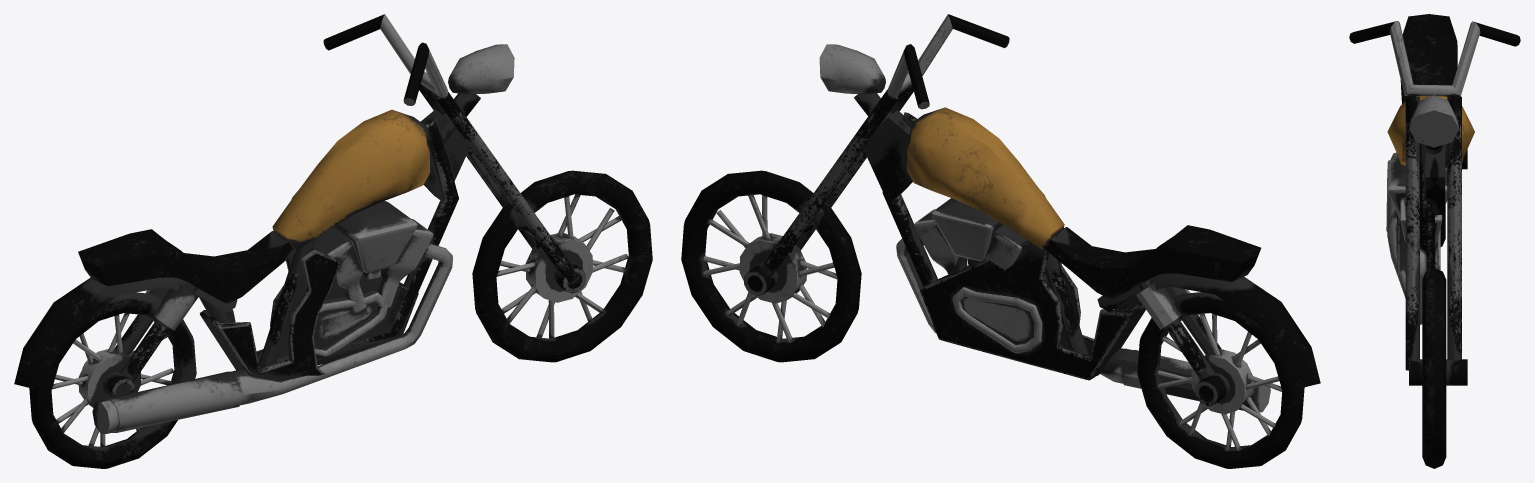
The model's file is moto.glb.
The picture shows the model from 3 angles, left to right: view 1: azimuth 30°, elevation 25°; view 2: azimuth 150°, elevation 25°; view 3: azimuth 270°, elevation 25°; orthographic projection.
Visible parts, largest first — view 1: Object_2; view 2: Object_2; view 3: Object_2.
Part boxes in pixels (box(x1,y1,x2,y2)): Object_2: box(14, 14, 652, 468); Object_2: box(681, 14, 1320, 468); Object_2: box(1349, 14, 1520, 468).
Size of the model in its own units: 151 by 83.75 by 35.87.
1 material, 1 textured.
